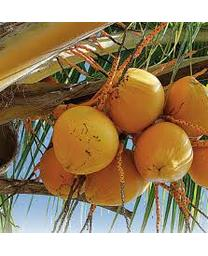coconut: (51, 104, 121, 175), (108, 65, 165, 132), (83, 147, 147, 206), (134, 121, 194, 183), (165, 76, 206, 138)
